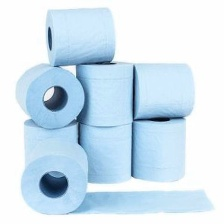tissue: (14, 137, 218, 219), (9, 58, 88, 133), (39, 3, 121, 70), (72, 58, 137, 130), (127, 57, 199, 121), (73, 114, 135, 187), (128, 114, 190, 185), (18, 114, 82, 172)
